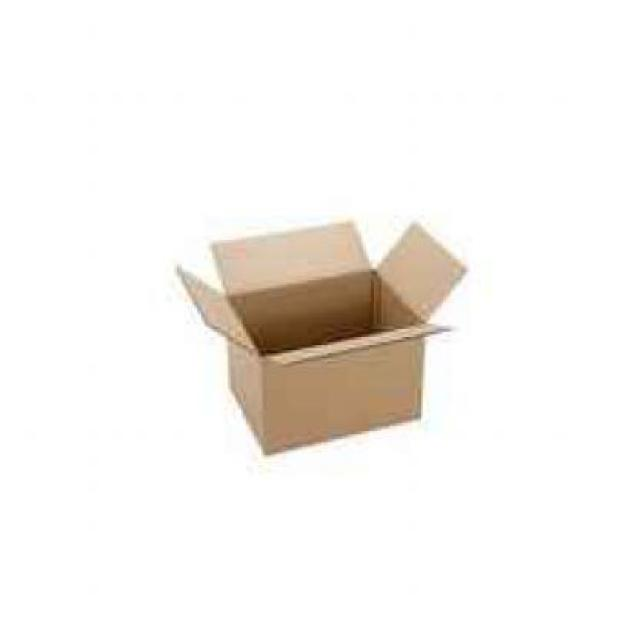box: (166, 206, 559, 496)
